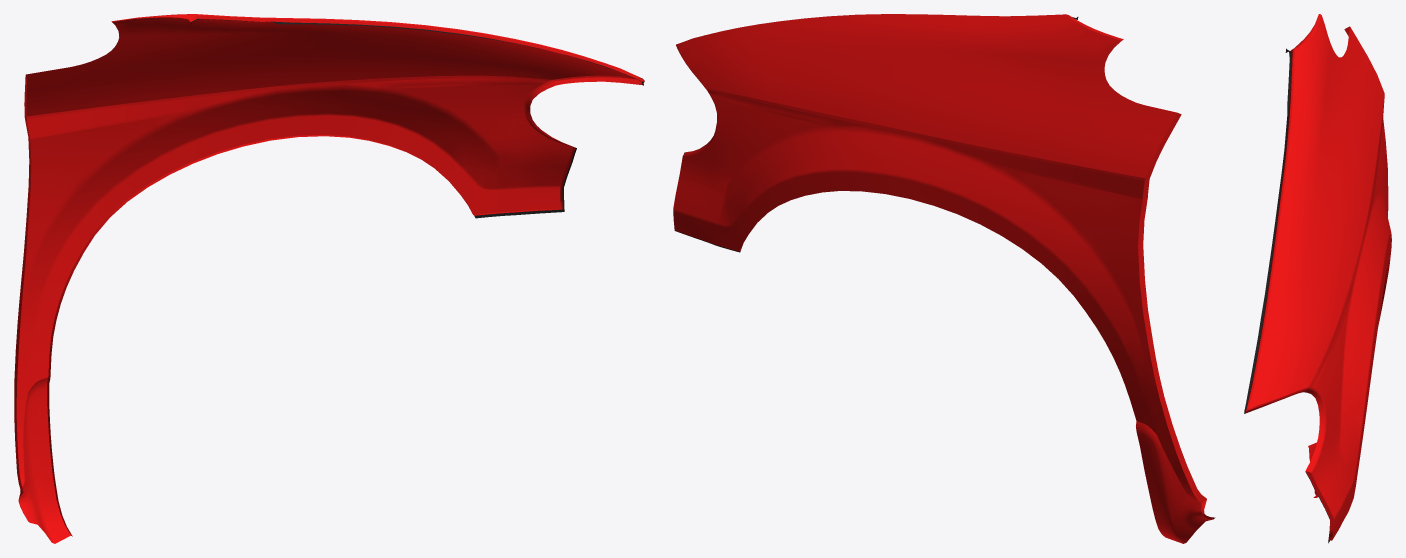
3 renders of one model, left to right at view 1: azimuth 30°, elevation 25°; view 2: azimuth 150°, elevation 25°; view 3: azimuth 270°, elevation 25°, orthographic. The views are drawn at different scales.
Parts seen in each view (by area): view 1: N664_9A_121B_L_1_DaS_N664_9A_121B_L, N664_9A_121B_L_1_DaS_N664_9A_121B_L_E, N664_9A_121B_L_N664_9A_121B_L_2_D; view 2: N664_9A_121B_L_1_DaS_N664_9A_121B_L, N664_9A_121B_L_1_DaS_N664_9A_121B_L_E; view 3: N664_9A_121B_L_1_DaS_N664_9A_121B_L, N664_9A_121B_L_1_DaS_N664_9A_121B_L_E, N664_9A_121B_L_N664_9A_121B_L_2_D.
Part boxes in pixels (x1=…): N664_9A_121B_L_1_DaS_N664_9A_121B_L: x1=16, y1=15, x2=644, y2=536; N664_9A_121B_L_1_DaS_N664_9A_121B_L_E: x1=14, y1=14, x2=643, y2=543; N664_9A_121B_L_N664_9A_121B_L_2_D: x1=190, y1=18, x2=643, y2=218; N664_9A_121B_L_1_DaS_N664_9A_121B_L: x1=673, y1=14, x2=1215, y2=519; N664_9A_121B_L_1_DaS_N664_9A_121B_L_E: x1=676, y1=14, x2=1212, y2=543; N664_9A_121B_L_1_DaS_N664_9A_121B_L: x1=1245, y1=14, x2=1391, y2=539; N664_9A_121B_L_1_DaS_N664_9A_121B_L_E: x1=1246, y1=14, x2=1390, y2=540; N664_9A_121B_L_N664_9A_121B_L_2_D: x1=1244, y1=48, x2=1329, y2=543.
Bounding box in the file's own units: 106 × 87.26 × 23.03.
